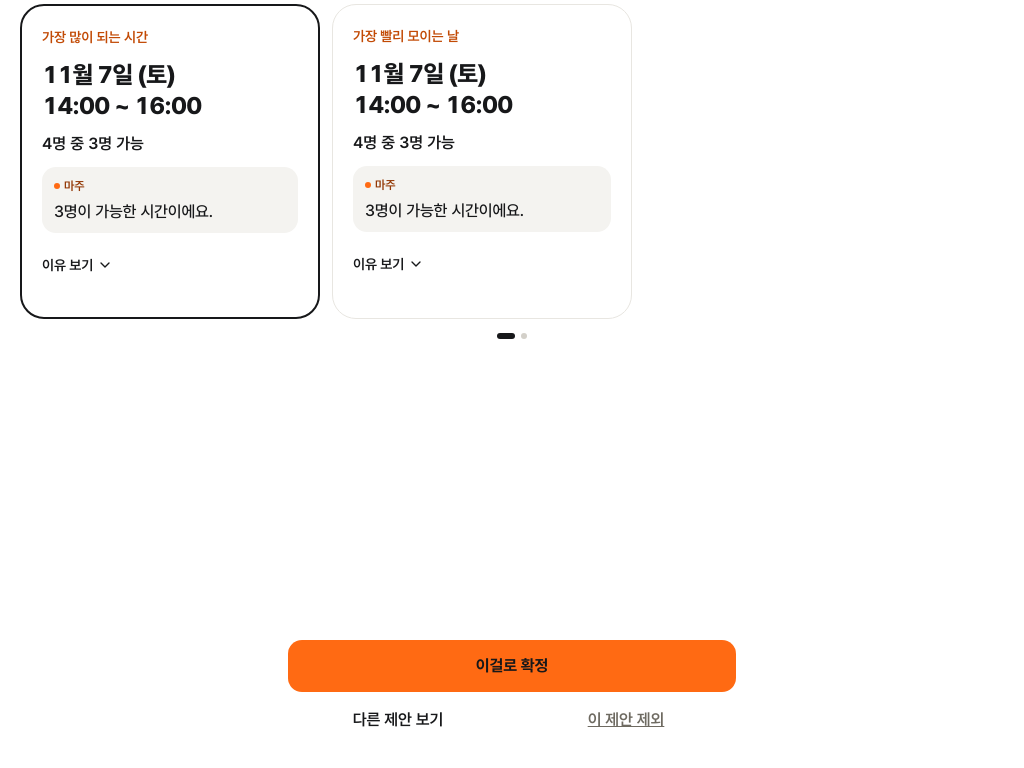
Test: 응답하지 않은 자리가 있으면 확정 시트가 경고한다
Step 1. Click the button "이걸로 확정" → (512, 666), box [288,640,736,692]
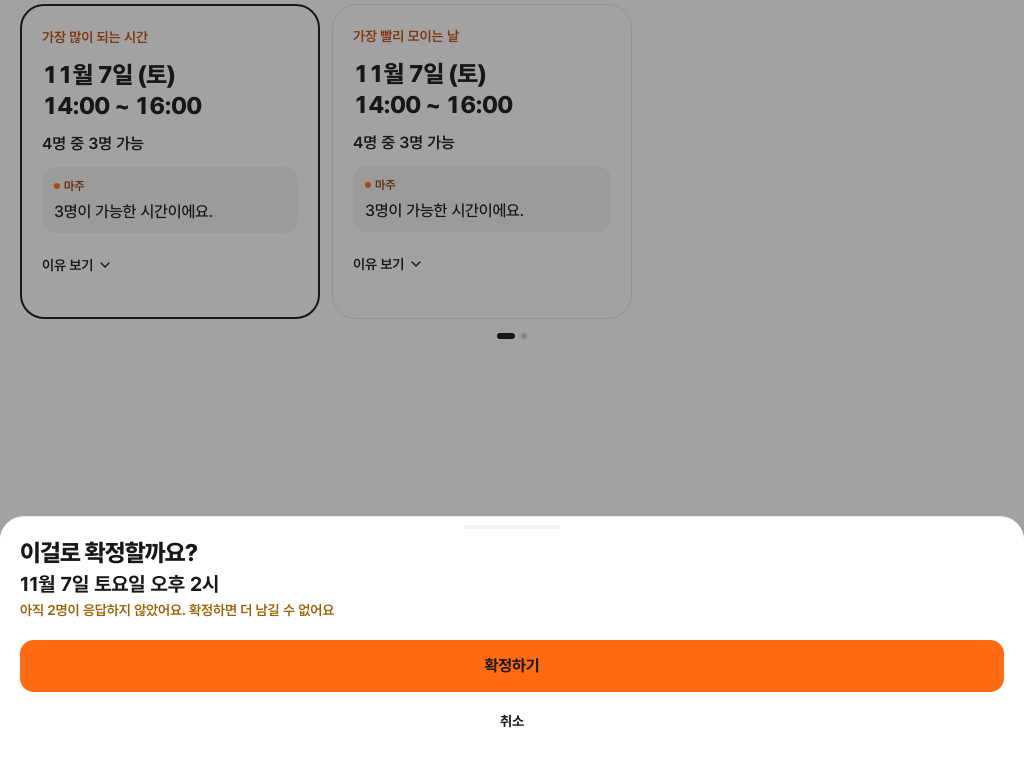
Expected: the text "아직 2명이 응답하지 않았어요. 확정하면 더 남길 수 없어요" is shown, [20,600,334,619]
